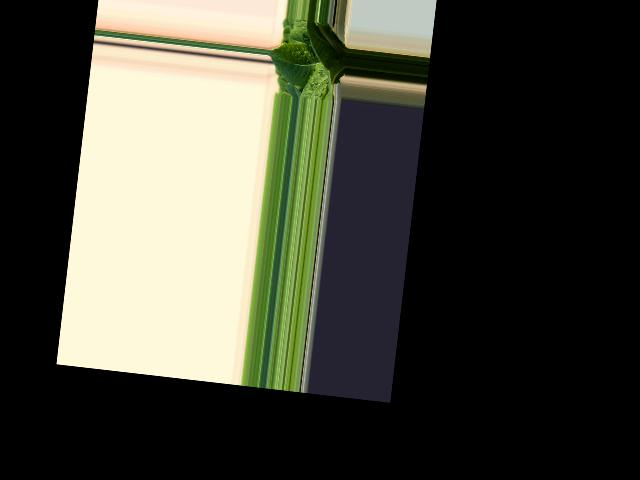lettuce: (272, 18, 350, 94)
